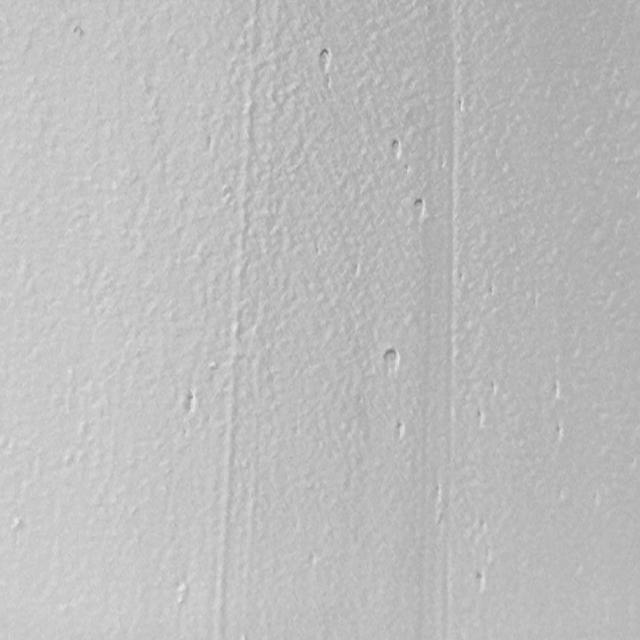pin holes: (380, 348, 402, 378), (313, 44, 334, 74), (470, 568, 488, 594), (412, 194, 428, 222), (388, 138, 406, 162), (181, 392, 199, 416), (548, 378, 566, 402), (390, 421, 408, 444), (473, 407, 489, 430), (71, 22, 87, 42), (349, 262, 362, 280), (486, 279, 496, 297), (457, 267, 466, 287)
